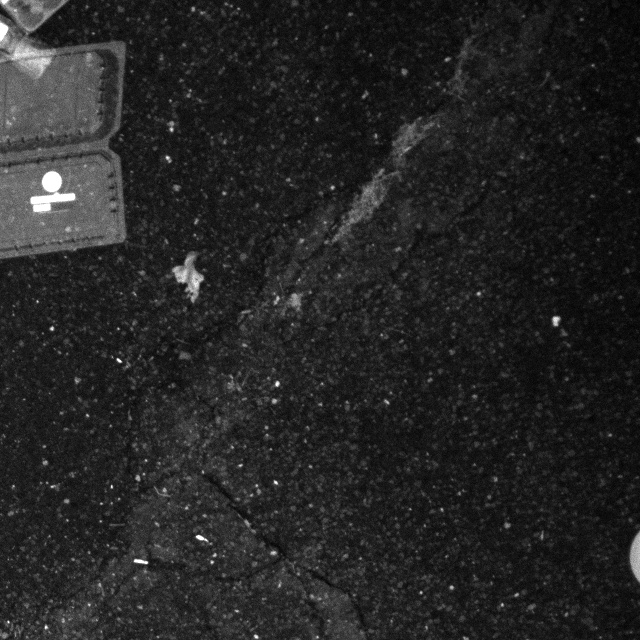bottle: (0, 4, 63, 74)
container: (0, 24, 133, 268)
